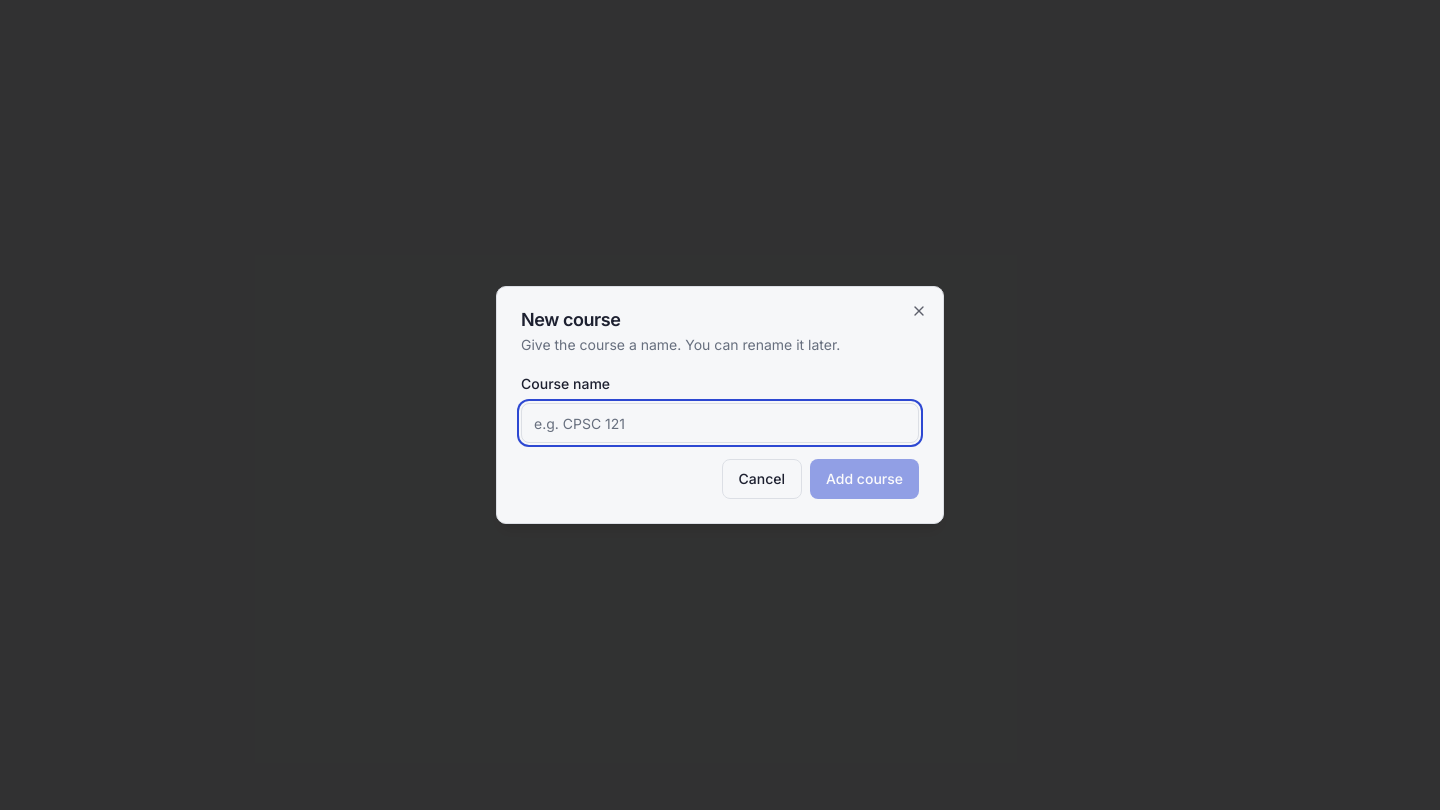
Test: NewCourseDialog › cancels without adding, and forgets what was typed
The image size is (1440, 810).
Type "CPSC 121" into the field with id "course-name".
click(720, 423); type("CPSC 121")  # box [521,403,919,443]
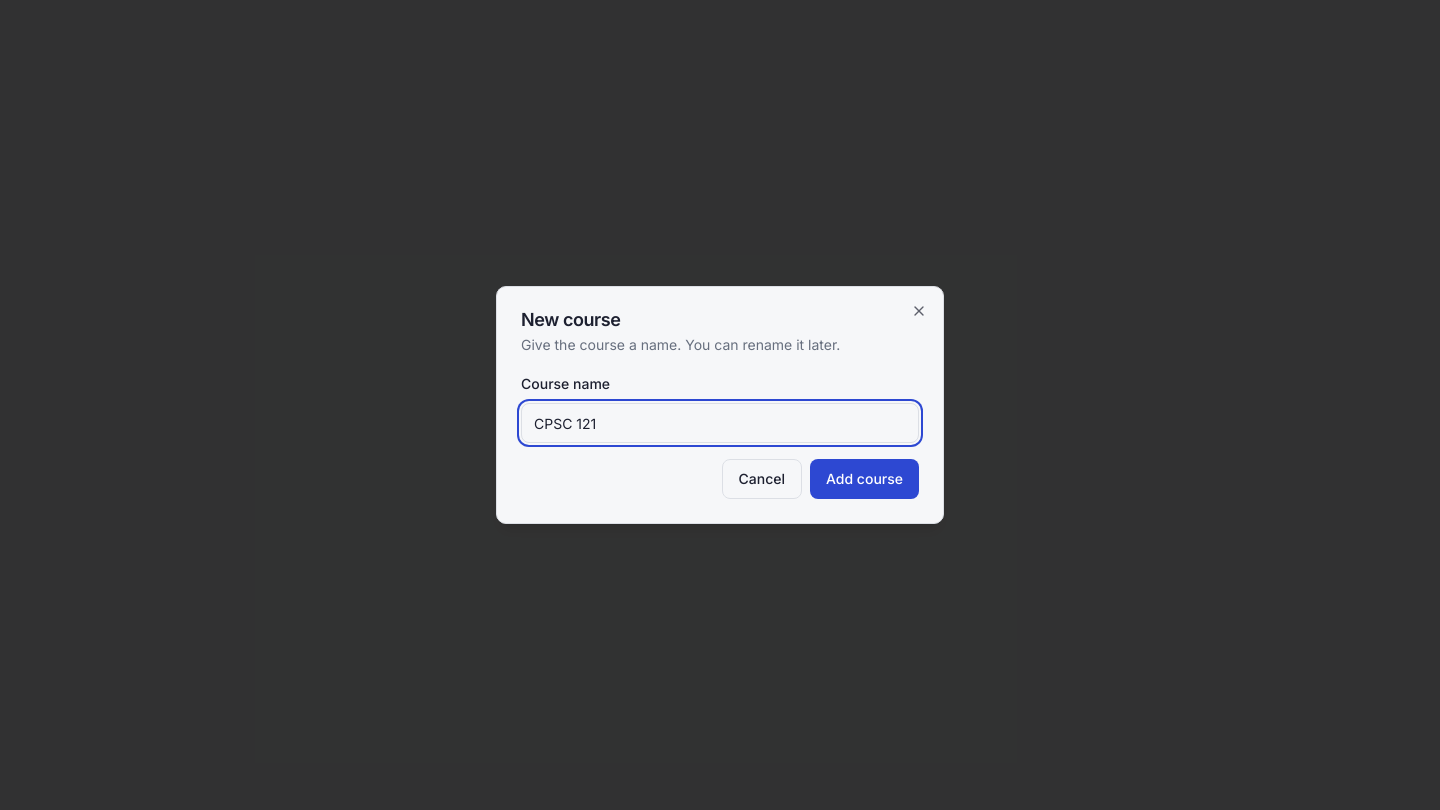
Click the button "Cancel".
click(762, 479)  # box [722,459,802,499]
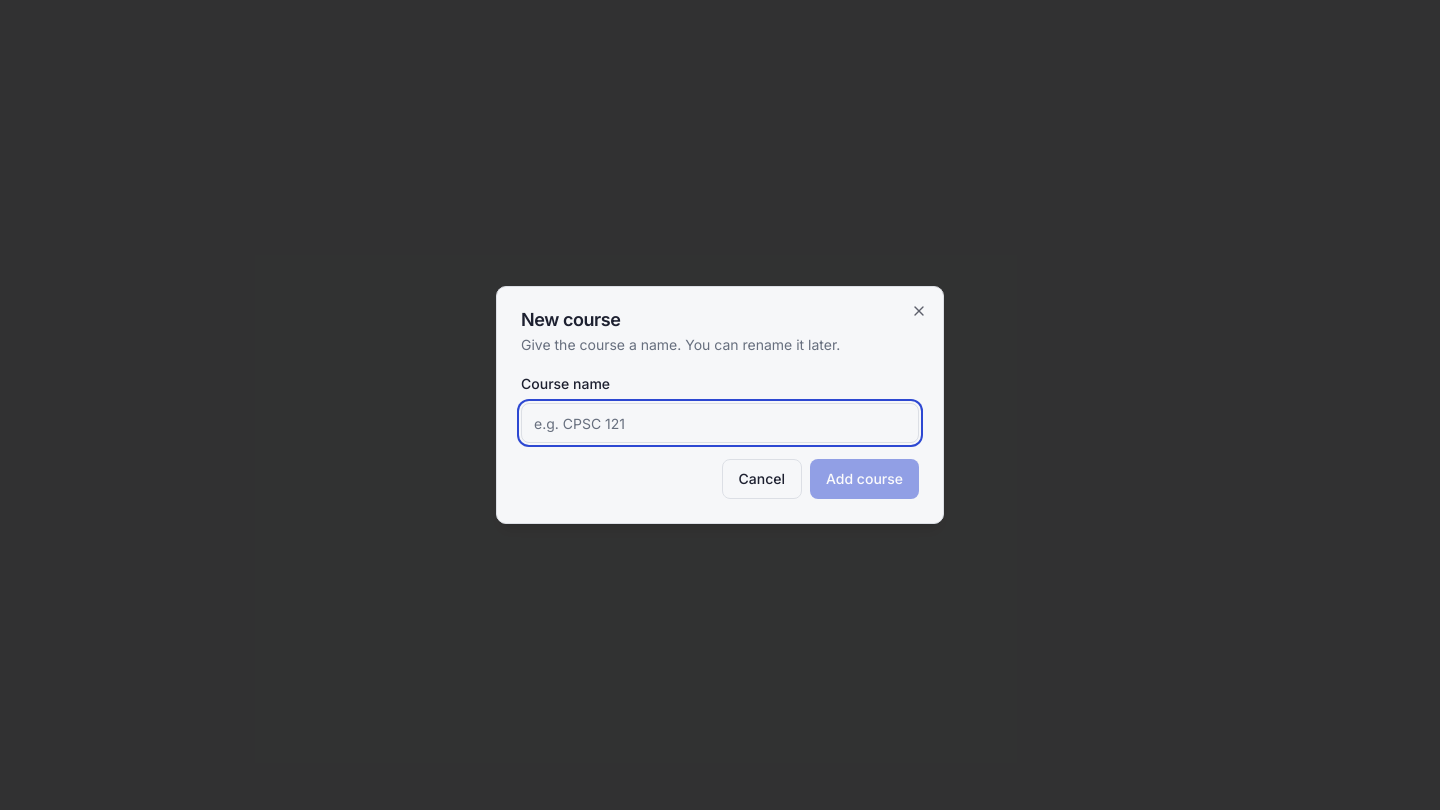
expect the field with id "course-name" is empty: met, box [521,403,919,443]
